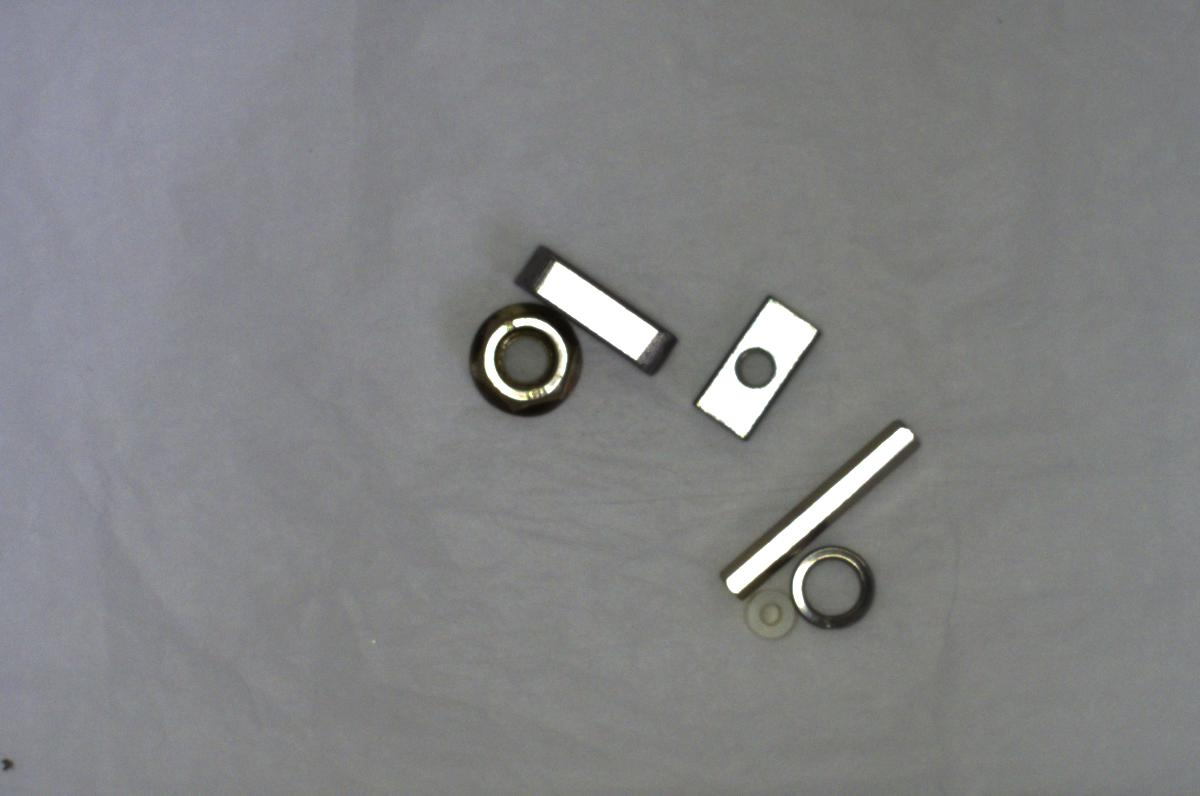Flange nut: (470, 300, 585, 418)
Keybar: (514, 245, 682, 372)
Plastic cushion pillar: (732, 581, 795, 646)
Rectangular nut: (686, 283, 822, 441)
Spring washer: (714, 418, 922, 594), (788, 545, 878, 630)
